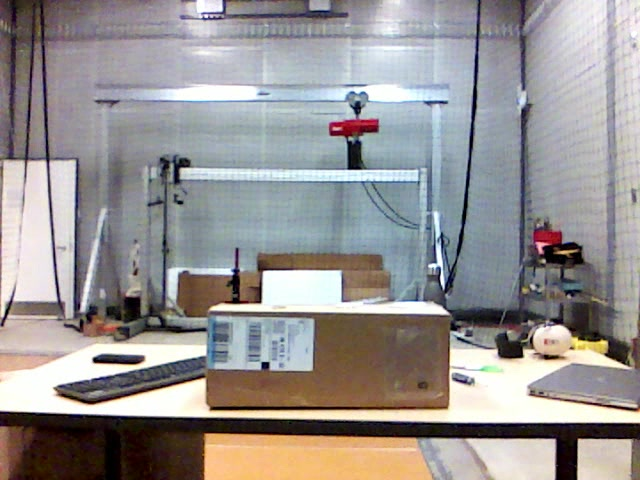box: (208, 305, 449, 407)
